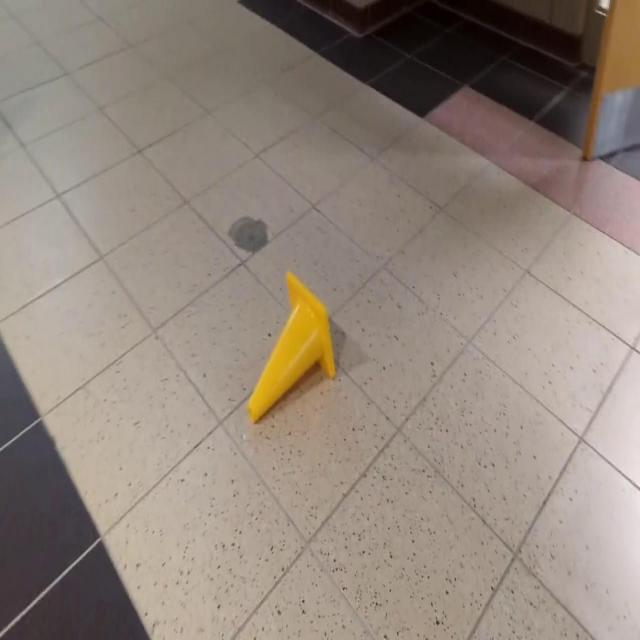frc_cone: (246, 270, 338, 426)
